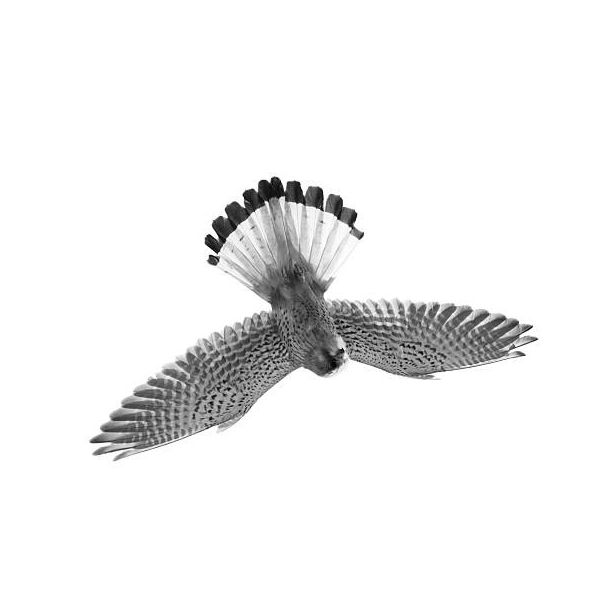Bird: (82, 172, 544, 465)
